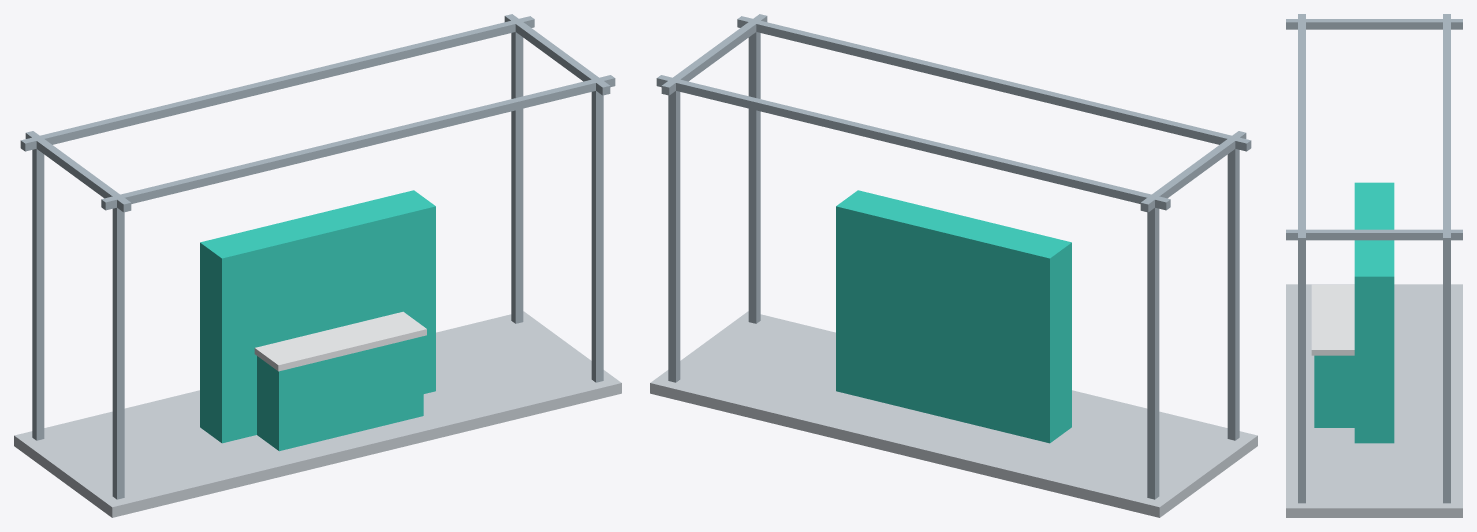
3 renders of one model, left to right at view 1: azimuth 30°, elevation 25°; view 2: azimuth 150°, elevation 25°; view 3: azimuth 270°, elevation 25°, orthographic. The views are drawn at different scales.
Parts seen in each view (by area): view 1: Exhibition Booth Concept; view 2: Exhibition Booth Concept; view 3: Exhibition Booth Concept.
Part boxes in pixels (bbox=[...]): Exhibition Booth Concept: bbox=[14, 14, 621, 517]; Exhibition Booth Concept: bbox=[650, 14, 1257, 517]; Exhibition Booth Concept: bbox=[1286, 14, 1462, 517].
Size of the model in its own units: 6 by 3.49 by 2.
